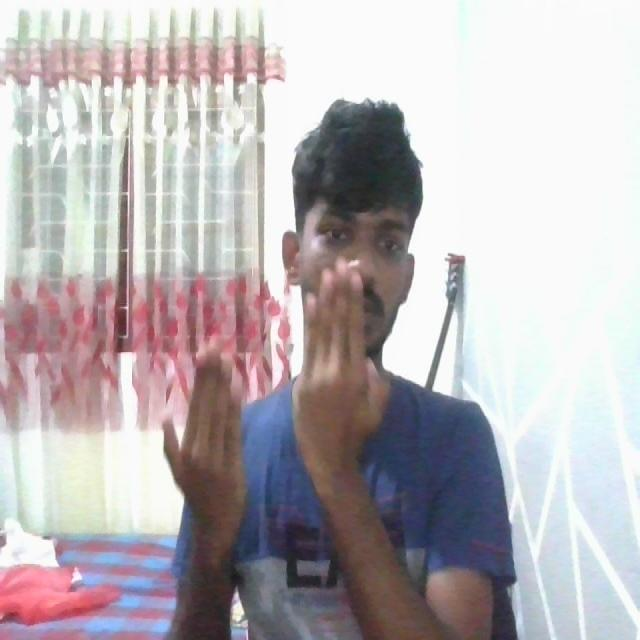ThankYou: (157, 265, 514, 640)
